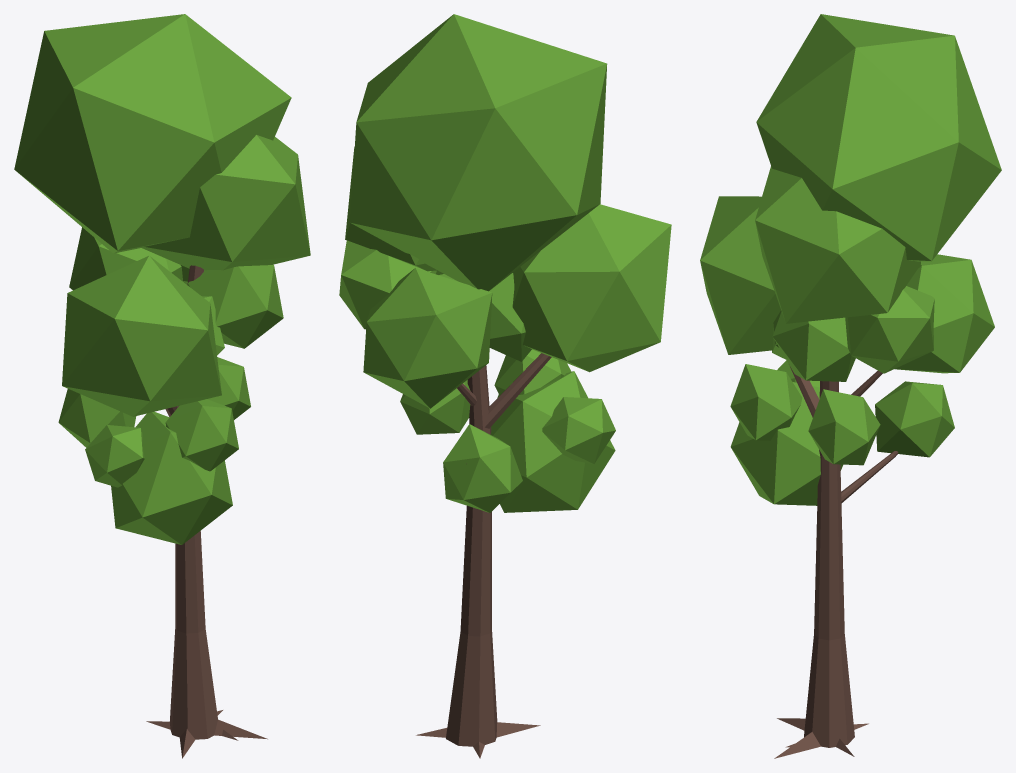
The model's file is SpringTree_06.fbx.
3 renders of one model, left to right at view 1: azimuth 30°, elevation 25°; view 2: azimuth 150°, elevation 25°; view 3: azimuth 270°, elevation 25°, orthographic. The views are drawn at different scales.
Parts seen in each view (by area): view 1: SpringTree_06; view 2: SpringTree_06; view 3: SpringTree_06.
Boxes of the visible parts, box(x1,y1,x2,y2) form: SpringTree_06: box(14, 14, 310, 758); SpringTree_06: box(339, 14, 671, 758); SpringTree_06: box(700, 14, 1001, 758).
Size of the model in its own units: 401 by 1015 by 402.
